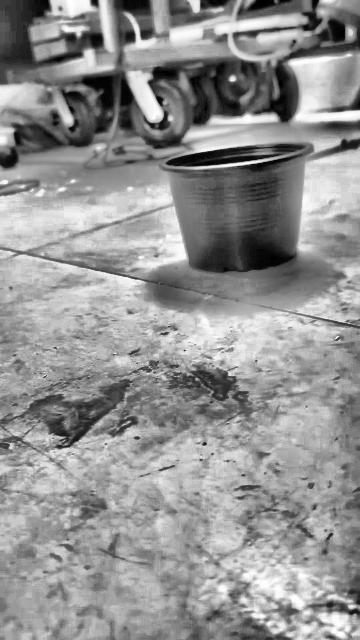pot: (157, 140, 315, 272)
